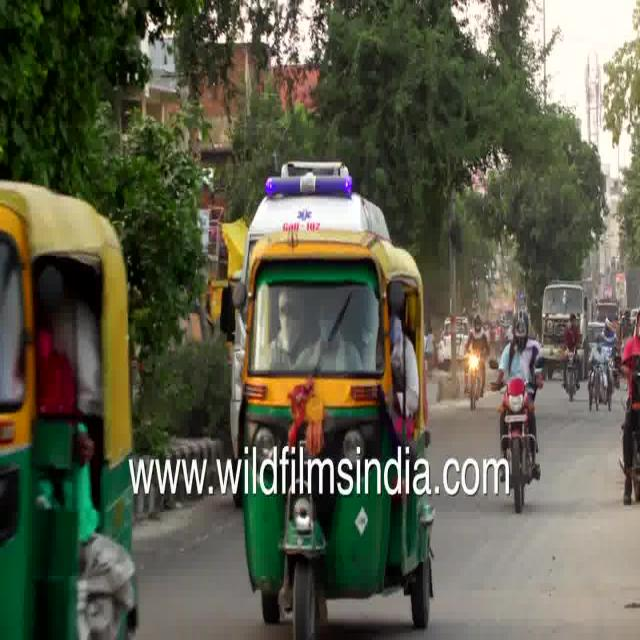ambulance: (233, 152, 408, 254)
